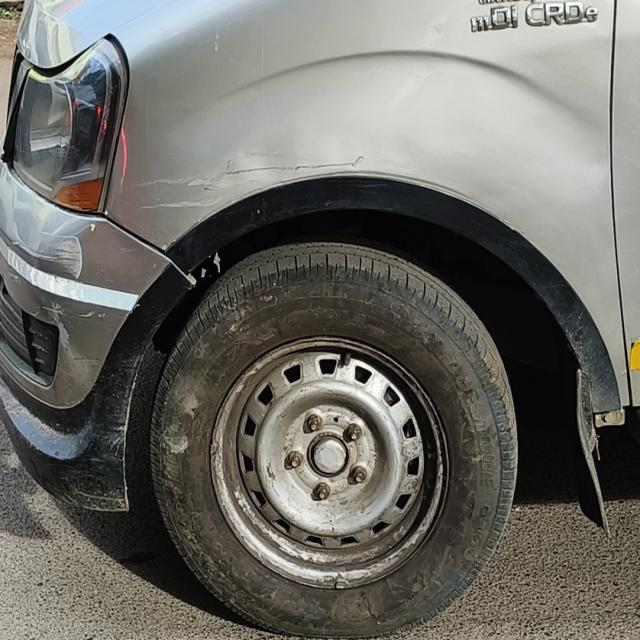scratch: (40, 299, 107, 392), (125, 172, 246, 220), (240, 149, 376, 186), (194, 249, 230, 275)
